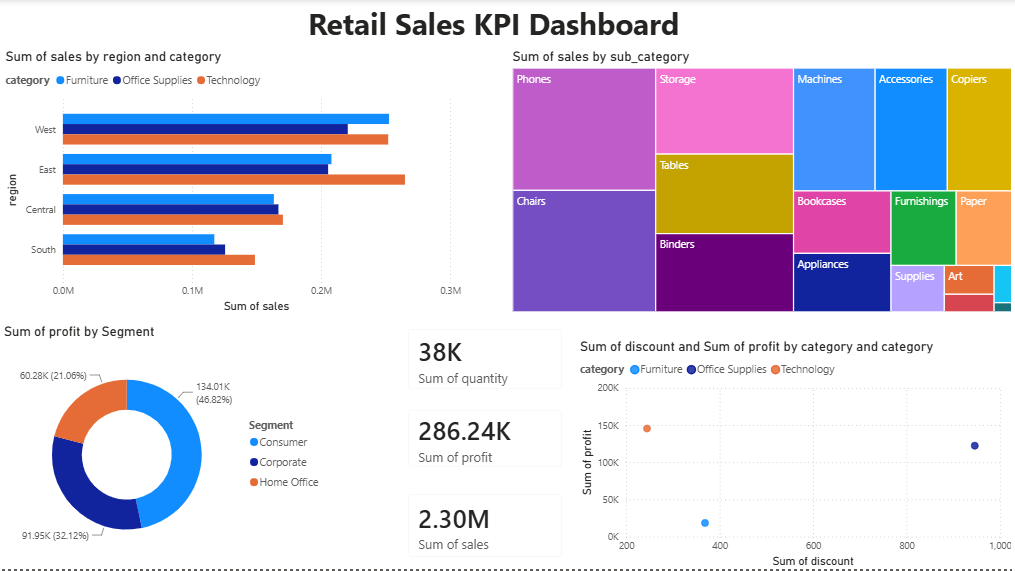

The page's visual inventory and layout, read from the dashboard file:
{"tool":"powerbi","page":{"name":"Page 1","canvas":[1280,720],"ordinal":0},"visuals":[{"type":"clusteredBarChart","fields":{"Category":["orders_clean.region"],"Y":["Sum(orders_clean.sales)"],"Series":["orders_clean.category"]},"box":[1.9,62.4,583.9,336.4],"z":0},{"type":"donutChart","fields":{"Category":["orders_clean.Segment"],"Y":["Sum(orders_clean.profit)"]},"box":[0,408.2,415.8,311.8],"z":1000},{"type":"treemap","fields":{"Group":["orders_clean.sub_category"],"Values":["Sum(orders_clean.sales)"]},"box":[640.6,62.4,638.7,336.4],"z":2000},{"type":"scatterChart","fields":{"X":["Sum(orders_clean.discount)"],"Y":["Sum(orders_clean.profit)"],"Category":["orders_clean.category"],"Series":["orders_clean.category"]},"box":[725.7,427.1,553.7,292.9],"z":3000},{"type":"textbox","box":[1.9,0,1239.7,62.4],"z":4000},{"type":"cardVisual","fields":{"Data":["Sum(orders_clean.sales)"]},"box":[497,606.6,228.7,113.4],"z":5000},{"type":"cardVisual","fields":{"Data":["Sum(orders_clean.profit)"]},"box":[497,500.8,228.7,105.8],"z":5001},{"type":"cardVisual","fields":{"Data":["Sum(orders_clean.quantity)"]},"box":[497,398.7,228.7,109.6],"z":5002}]}

Visuals, with their boxes in screenshot pixels (x1, y1, x2, y2), scaled from the page's 1280x720 canvas onto the 1015x571 screenshot:
clusteredBarChart - orders_clean.region x Sum(orders_clean.sales): rect(2, 49, 465, 316)
donutChart - orders_clean.Segment x Sum(orders_clean.profit): rect(0, 324, 330, 570)
treemap - orders_clean.sub_category x Sum(orders_clean.sales): rect(508, 49, 1014, 316)
scatterChart - Sum(orders_clean.discount) x Sum(orders_clean.profit): rect(575, 339, 1014, 570)
textbox: rect(2, 0, 985, 49)
cardVisual - Sum(orders_clean.sales): rect(394, 481, 575, 570)
cardVisual - Sum(orders_clean.profit): rect(394, 397, 575, 481)
cardVisual - Sum(orders_clean.quantity): rect(394, 316, 575, 403)
